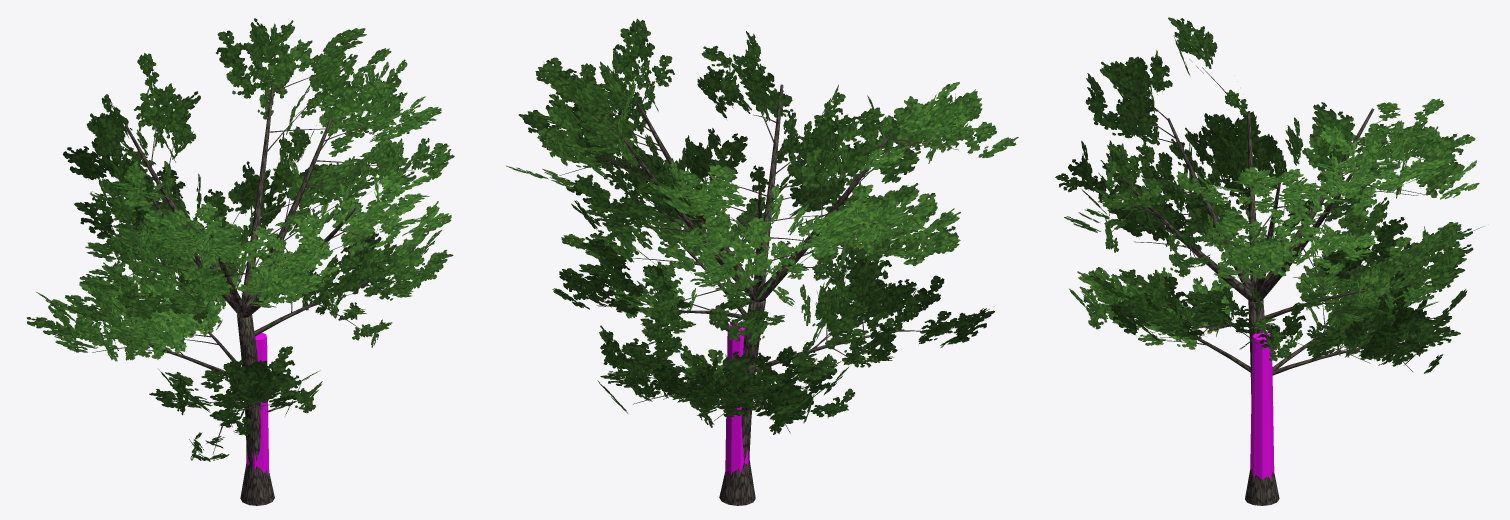
Rendered from EN_Tree_Linden_A.fbx.
The picture shows the model from 3 angles, left to right: view 1: azimuth 30°, elevation 25°; view 2: azimuth 150°, elevation 25°; view 3: azimuth 270°, elevation 25°; orthographic projection. The views are drawn at different scales.
Visible parts, largest first — view 1: EN_Tree_Linden_A_LOD0, COL_Trunk; view 2: EN_Tree_Linden_A_LOD0, COL_Trunk; view 3: EN_Tree_Linden_A_LOD0, COL_Trunk.
Boxes of the visible parts, x1,y1,x2,y2 form: EN_Tree_Linden_A_LOD0: [26, 18, 454, 505]; COL_Trunk: [246, 333, 269, 475]; EN_Tree_Linden_A_LOD0: [506, 18, 1018, 505]; COL_Trunk: [725, 323, 749, 475]; EN_Tree_Linden_A_LOD0: [1055, 17, 1484, 505]; COL_Trunk: [1250, 332, 1274, 480].
Size of what is drawn, in the model's own units: 10.24 by 10.18 by 9.91.
